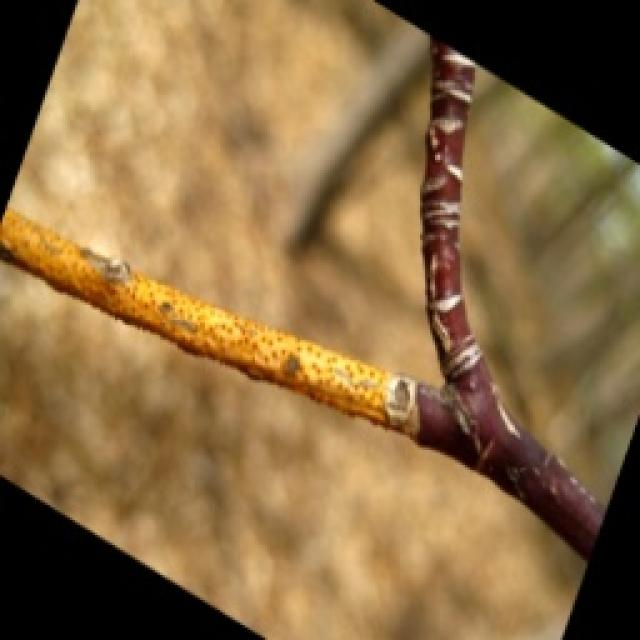Golden_canker: (0, 200, 422, 437)
